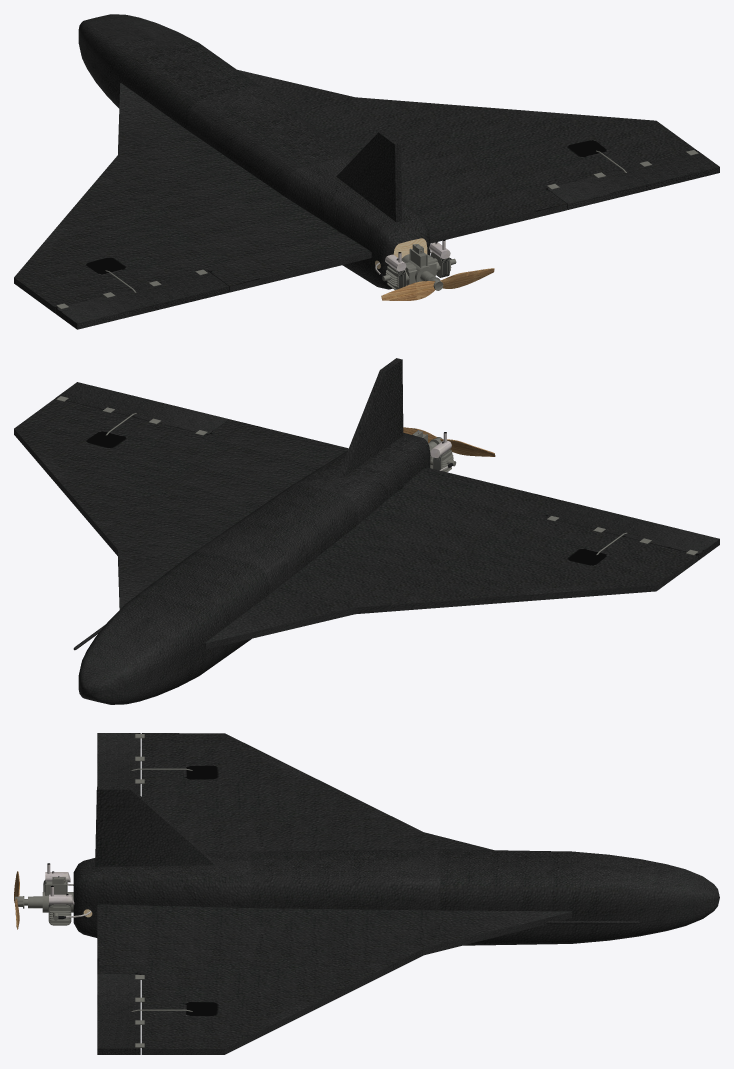
Rendered from drone.glb.
The picture shows the model from 3 angles, top to bottom: view 1: azimuth 30°, elevation 25°; view 2: azimuth 150°, elevation 25°; view 3: azimuth 270°, elevation 25°; orthographic projection.
Parts seen in each view (by area): view 1: body, flap2, flap1, motor, rotor; view 2: body, flap2, flap1, motor, rotor; view 3: body, flap1, flap2, motor.
Boxes of the visible parts, x1,y1,x2,y2 form: body: (14, 14, 697, 313); flap2: (55, 269, 229, 329); flap1: (546, 150, 719, 209); motor: (380, 239, 456, 289); rotor: (381, 268, 494, 300); body: (14, 358, 697, 704); flap2: (546, 502, 719, 560); flap1: (56, 382, 229, 435); motor: (412, 430, 456, 472); rotor: (403, 427, 495, 456); body: (73, 733, 719, 1054); flap1: (97, 974, 144, 1054); flap2: (97, 733, 144, 795); motor: (23, 863, 74, 925).
Bounding box in the file's own units: 4.57 × 0.9712 × 4.32.
1 material, 1 textured.
